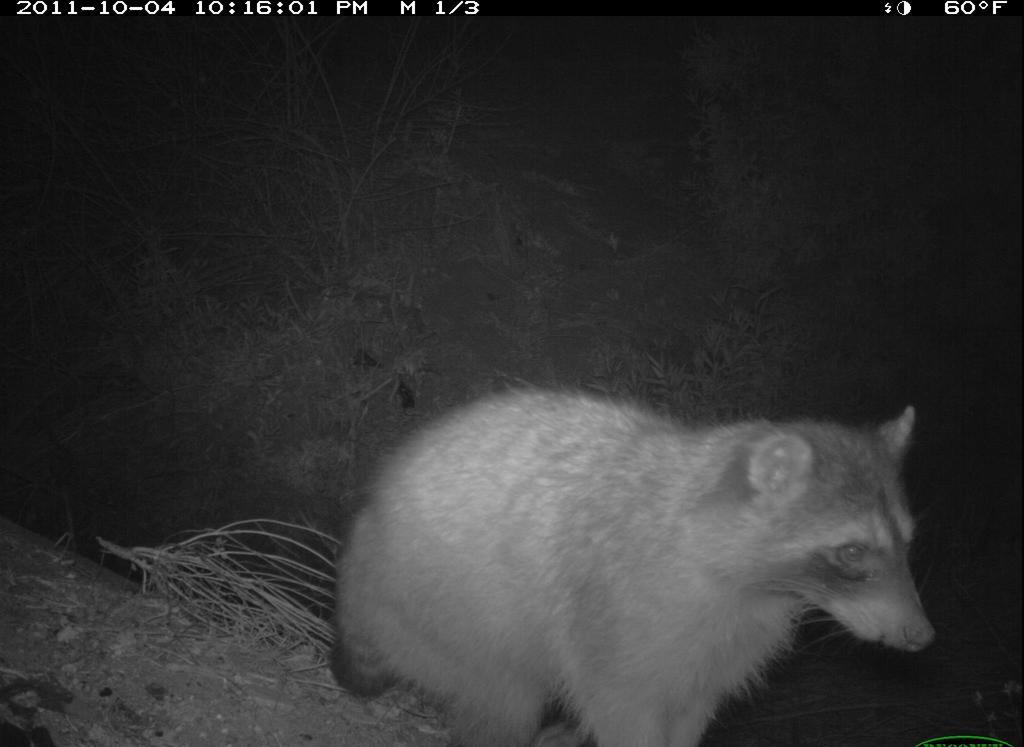raccoon: (326, 374, 944, 747)
